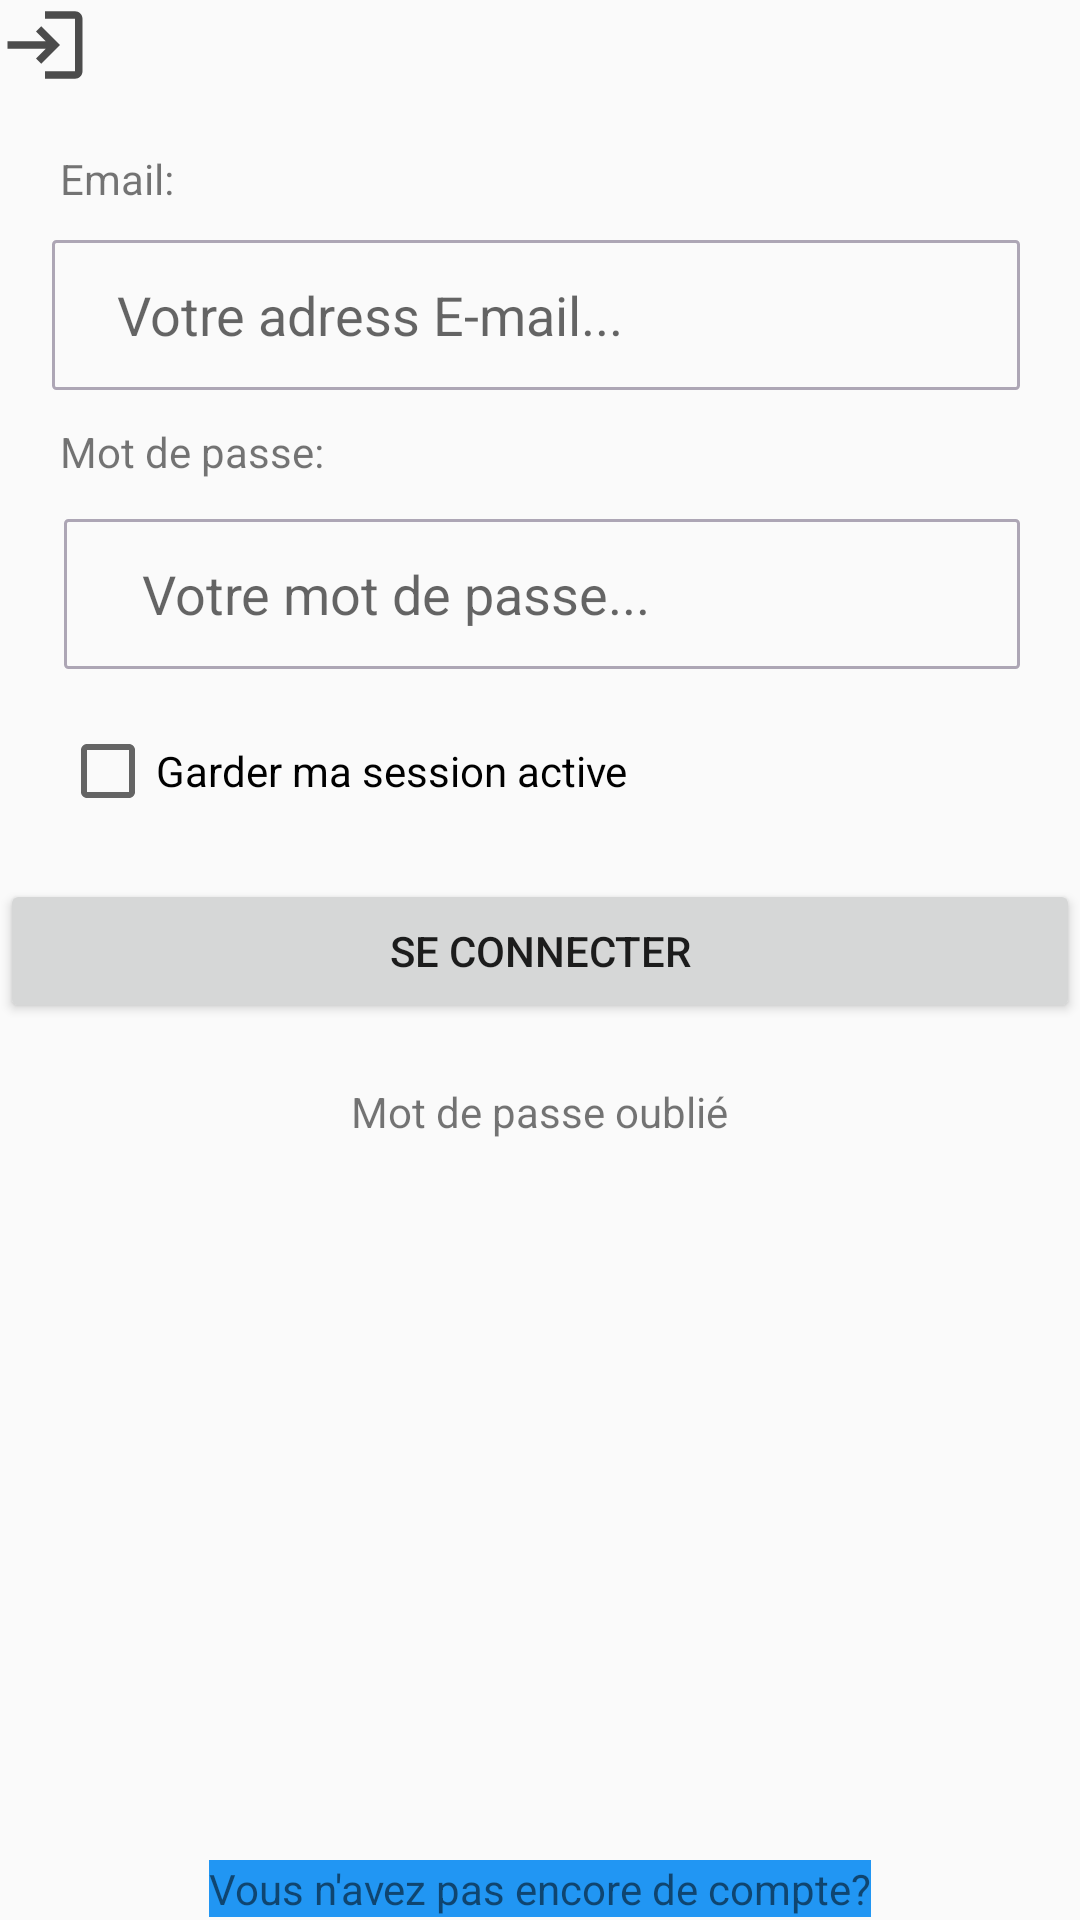

Icon click points for this 1080 × 1920 phone screenshot, format point (x, y):
login: point (45, 45)
